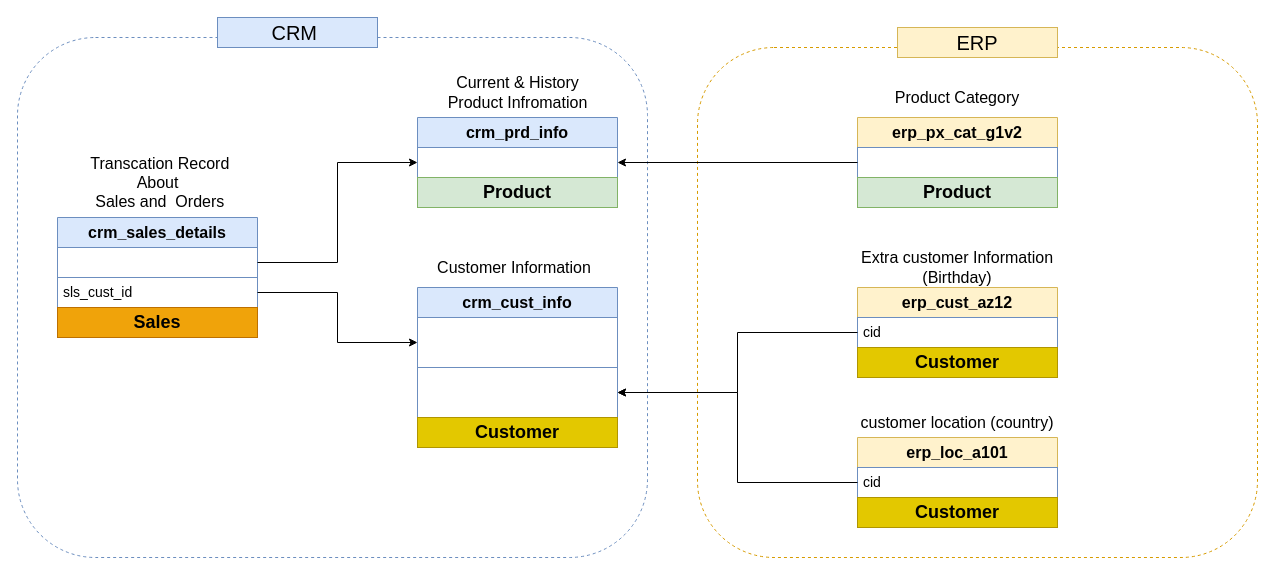
This 1275x575 diagram has some shape labels left out. The centre of each missing label's shape, as x and y in pixels:
cst_id: point (517, 342)
cst_key: point (517, 392)
prd_id: point (957, 162)
prd_key: point (517, 162)
sls_prd_key: point (157, 262)
